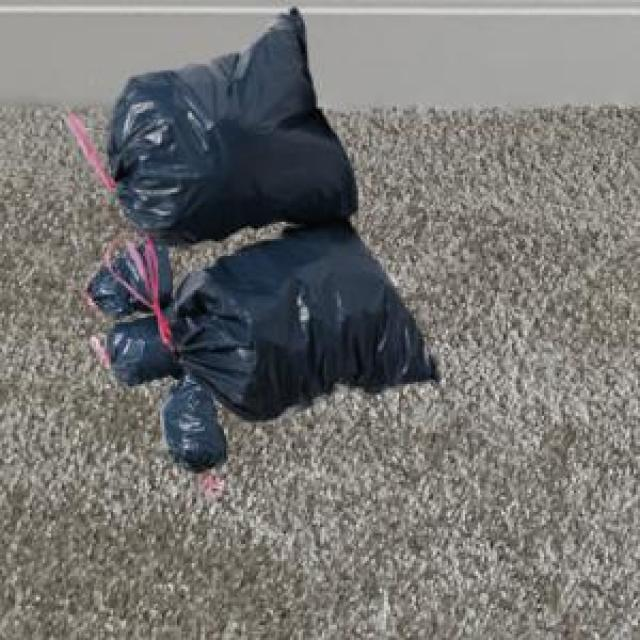Trashbag: (125, 28, 347, 244), (207, 229, 407, 404), (160, 378, 234, 475), (104, 308, 182, 386), (97, 239, 175, 314)
